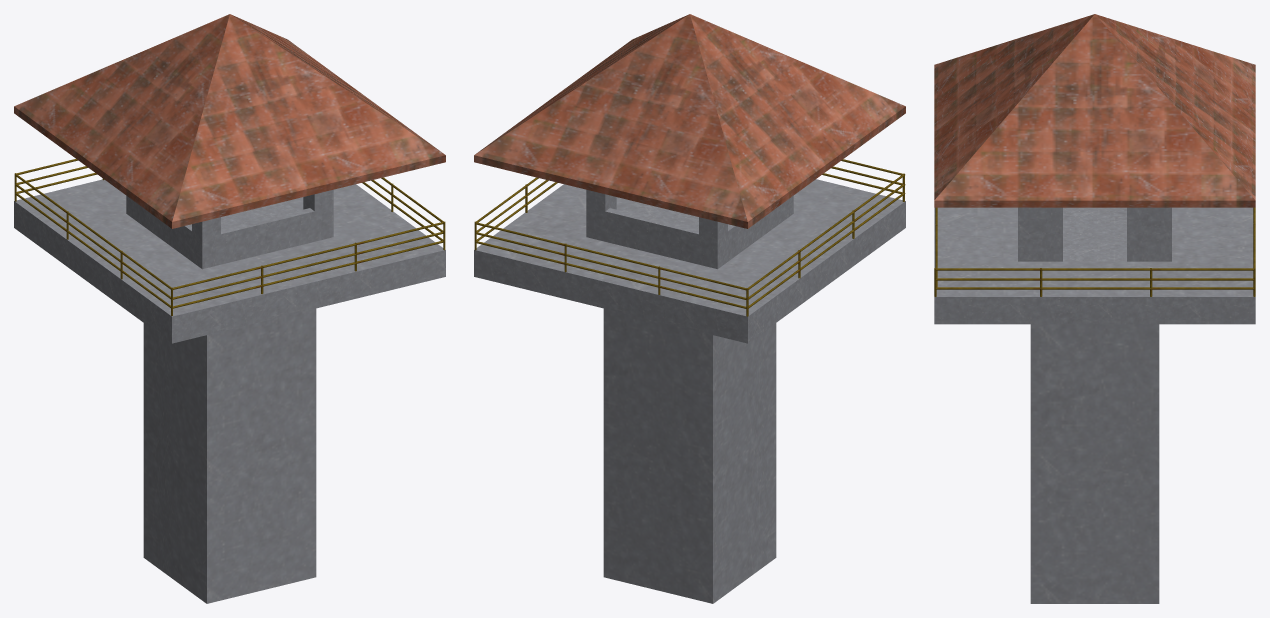
Rendered from watch_tower.fbx.
3 renders of one model, left to right at view 1: azimuth 30°, elevation 25°; view 2: azimuth 150°, elevation 25°; view 3: azimuth 270°, elevation 25°, orthographic.
Parts seen in each view (by area): view 1: watch_tower; view 2: watch_tower; view 3: watch_tower.
Boxes of the visible parts, x1=… form: watch_tower: x1=14, y1=14, x2=445, y2=603; watch_tower: x1=474, y1=14, x2=905, y2=603; watch_tower: x1=934, y1=14, x2=1255, y2=603.
Bounding box in the file's own units: 1000 × 1932 × 1000.
1 material, 1 textured.
